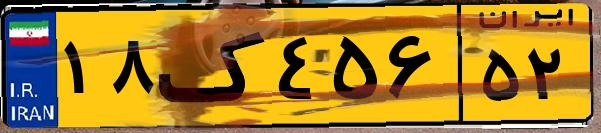1: (57, 26, 110, 100)
2: (525, 38, 570, 115)
4: (270, 28, 330, 110)
5: (330, 28, 385, 110), (475, 38, 525, 113)
6: (385, 28, 445, 110)
8: (110, 28, 158, 98)
ک: (158, 12, 270, 120)
